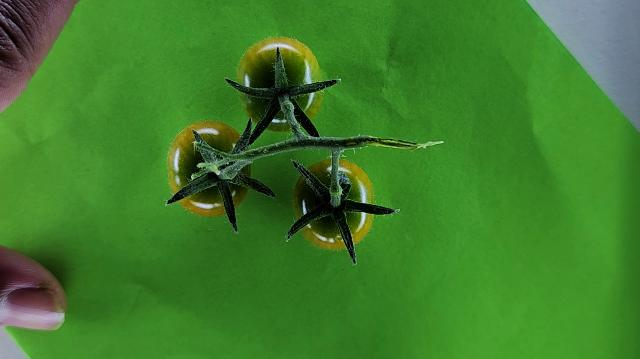Fully Grown: (235, 36, 325, 133), (166, 120, 252, 216), (294, 158, 377, 250)
